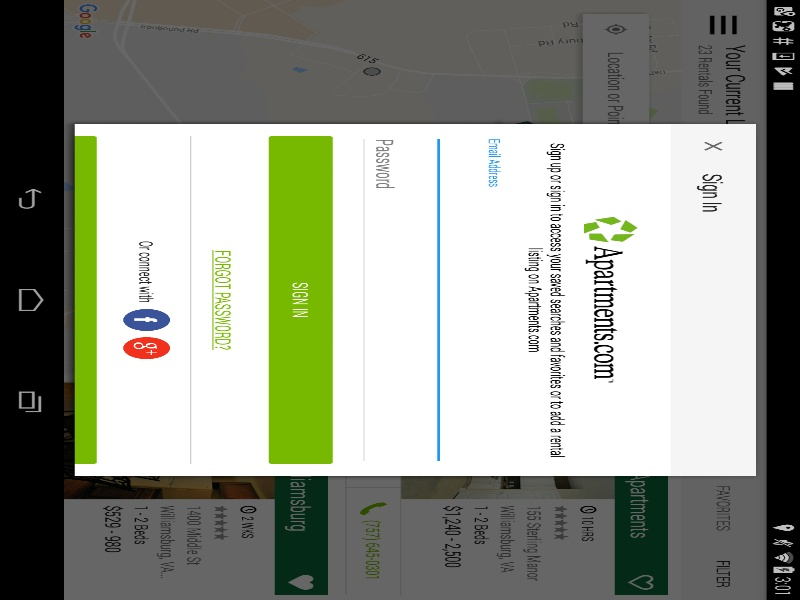Button: (520, 255, 760, 285), (274, 20, 349, 60)
